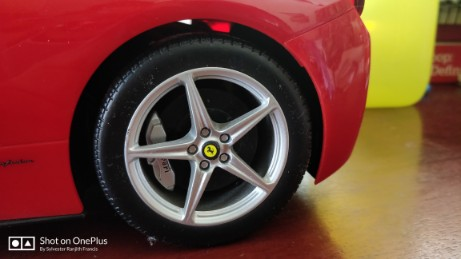aligned_wheel: (96, 40, 310, 245)
